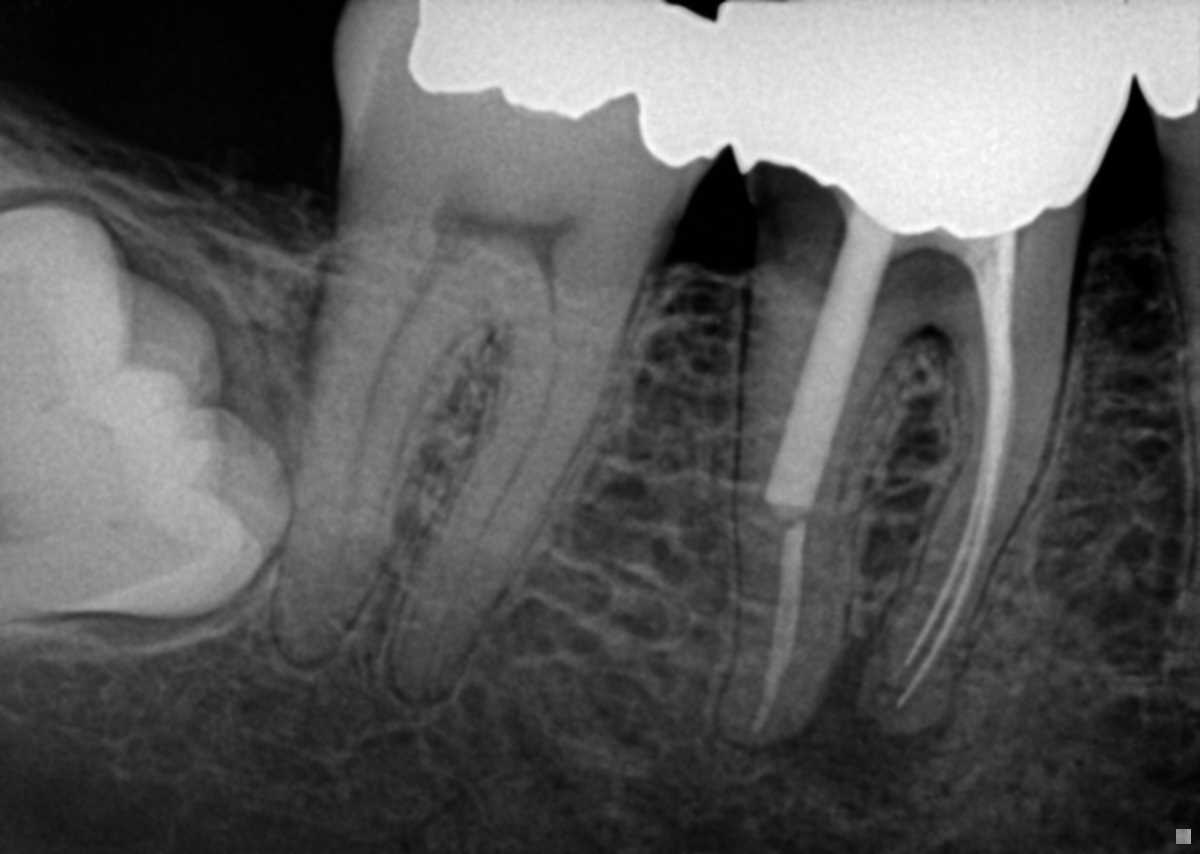Apical Lesion: (794, 639, 956, 813)
Distal Canal: (314, 280, 433, 624)
Distal Root: (272, 253, 490, 667), (725, 304, 901, 750)
Main Root: (1177, 217, 1200, 695)
Mesial Canal: (428, 312, 562, 677)
Mesial Root: (382, 308, 628, 701), (873, 331, 1067, 729)
Root Canal Filling: (896, 286, 1017, 709), (754, 523, 804, 732)
